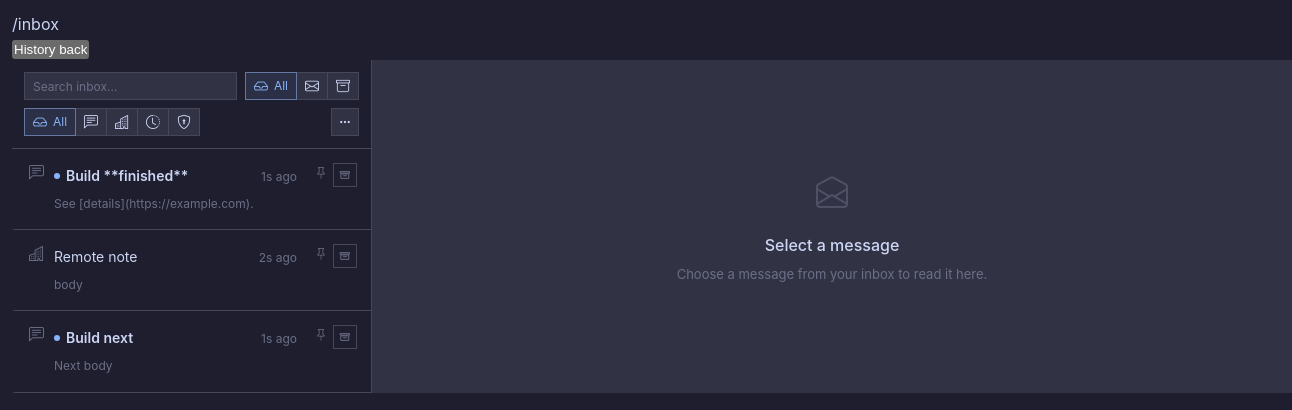
Test: Inbox › opens the next filtered message when archiving through reader
Expected: the button that starts with "Build **finished**" is shown, left=44, top=149, right=311, bottom=229
Click the radio button named "Primary". click: (91,122)
box: left=75, top=108, right=107, bottom=136
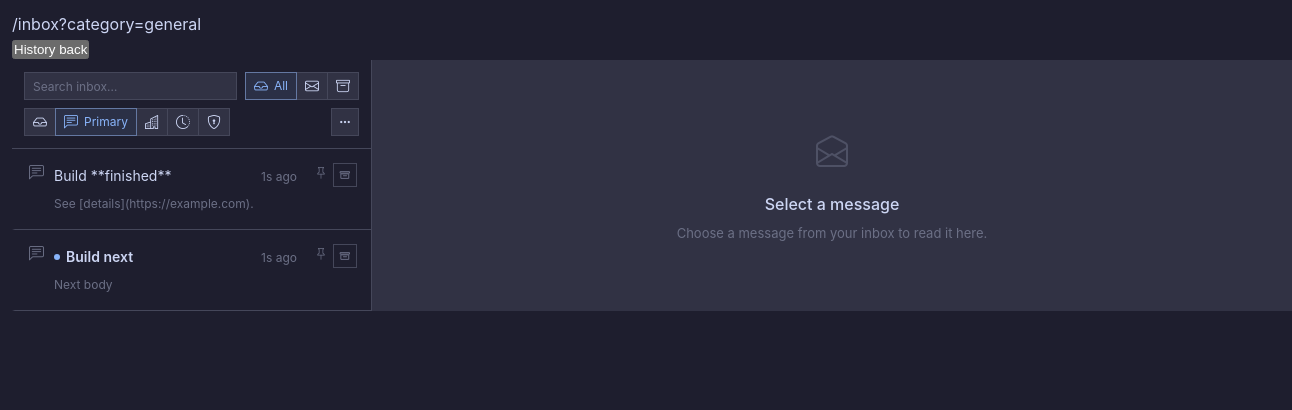
Type "Build" into the search field labelled "Search inbox". click: (130,86)
box: left=24, top=72, right=237, bottom=100
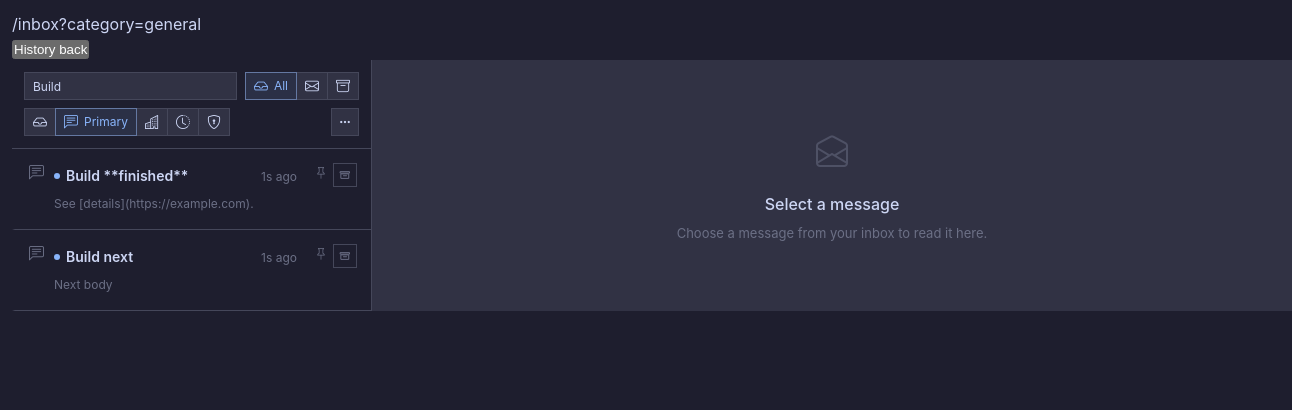
Click the button that starts with "Build **finished**". click: (127,176)
box: left=44, top=149, right=311, bottom=229
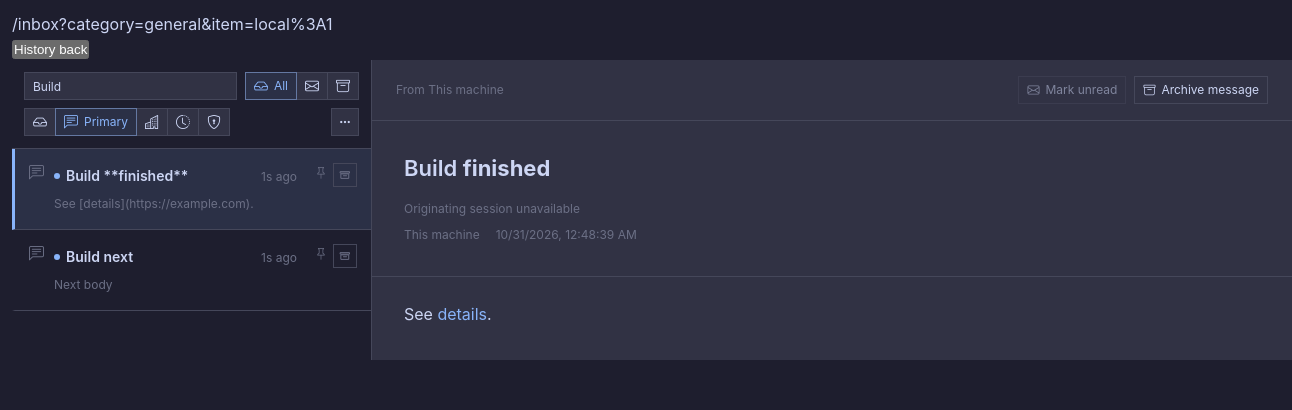
Click the button "Archive message". click: (1201,90)
box: left=1134, top=76, right=1268, bottom=104
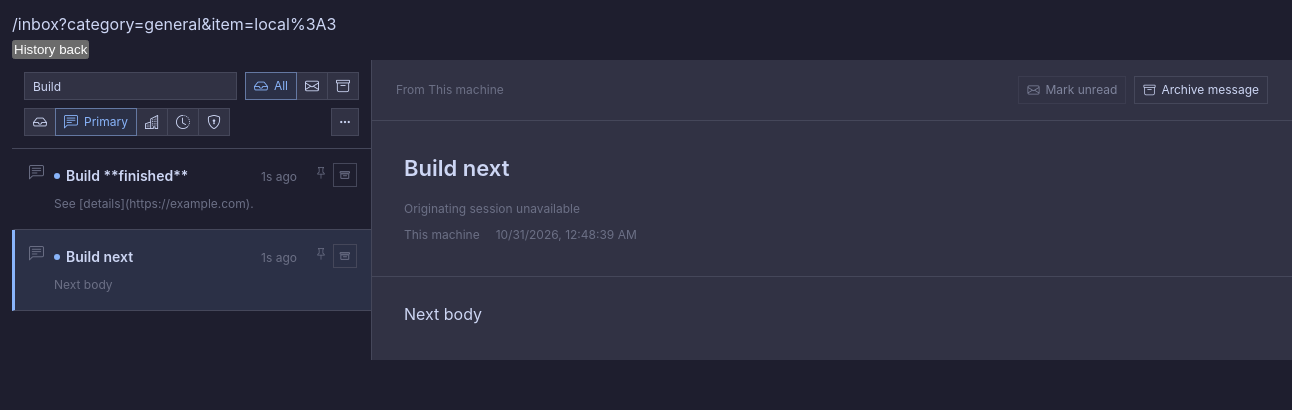
Now the heading "Build next" is shown, box left=404, top=155, right=509, bottom=181
